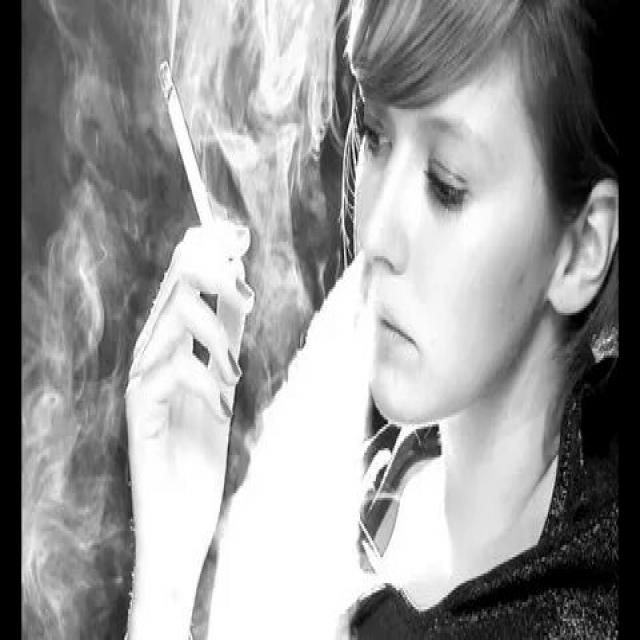cigarette: (159, 57, 220, 230)
